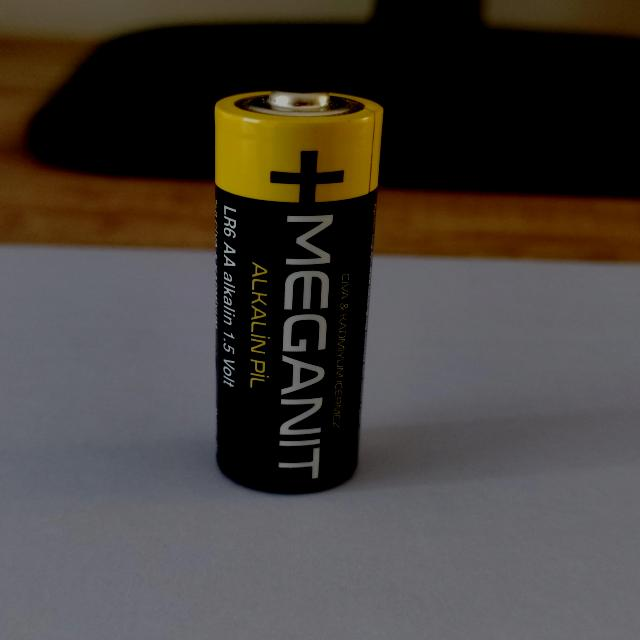AA: (206, 82, 391, 503)
